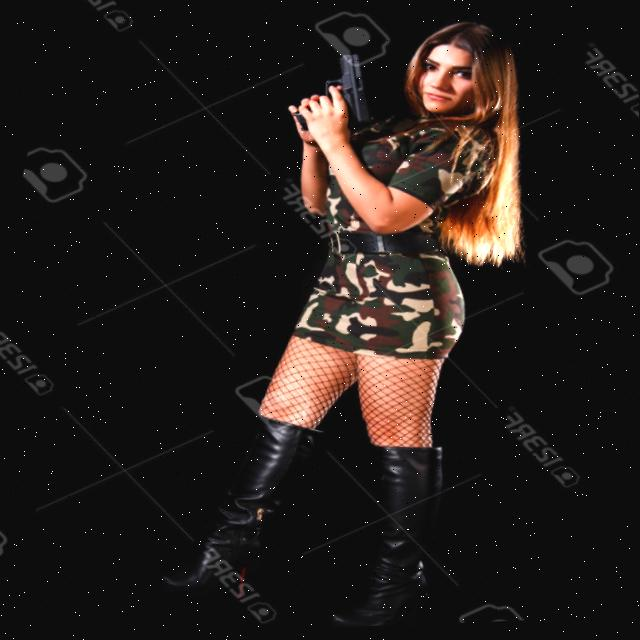pistol: (289, 44, 390, 149)
